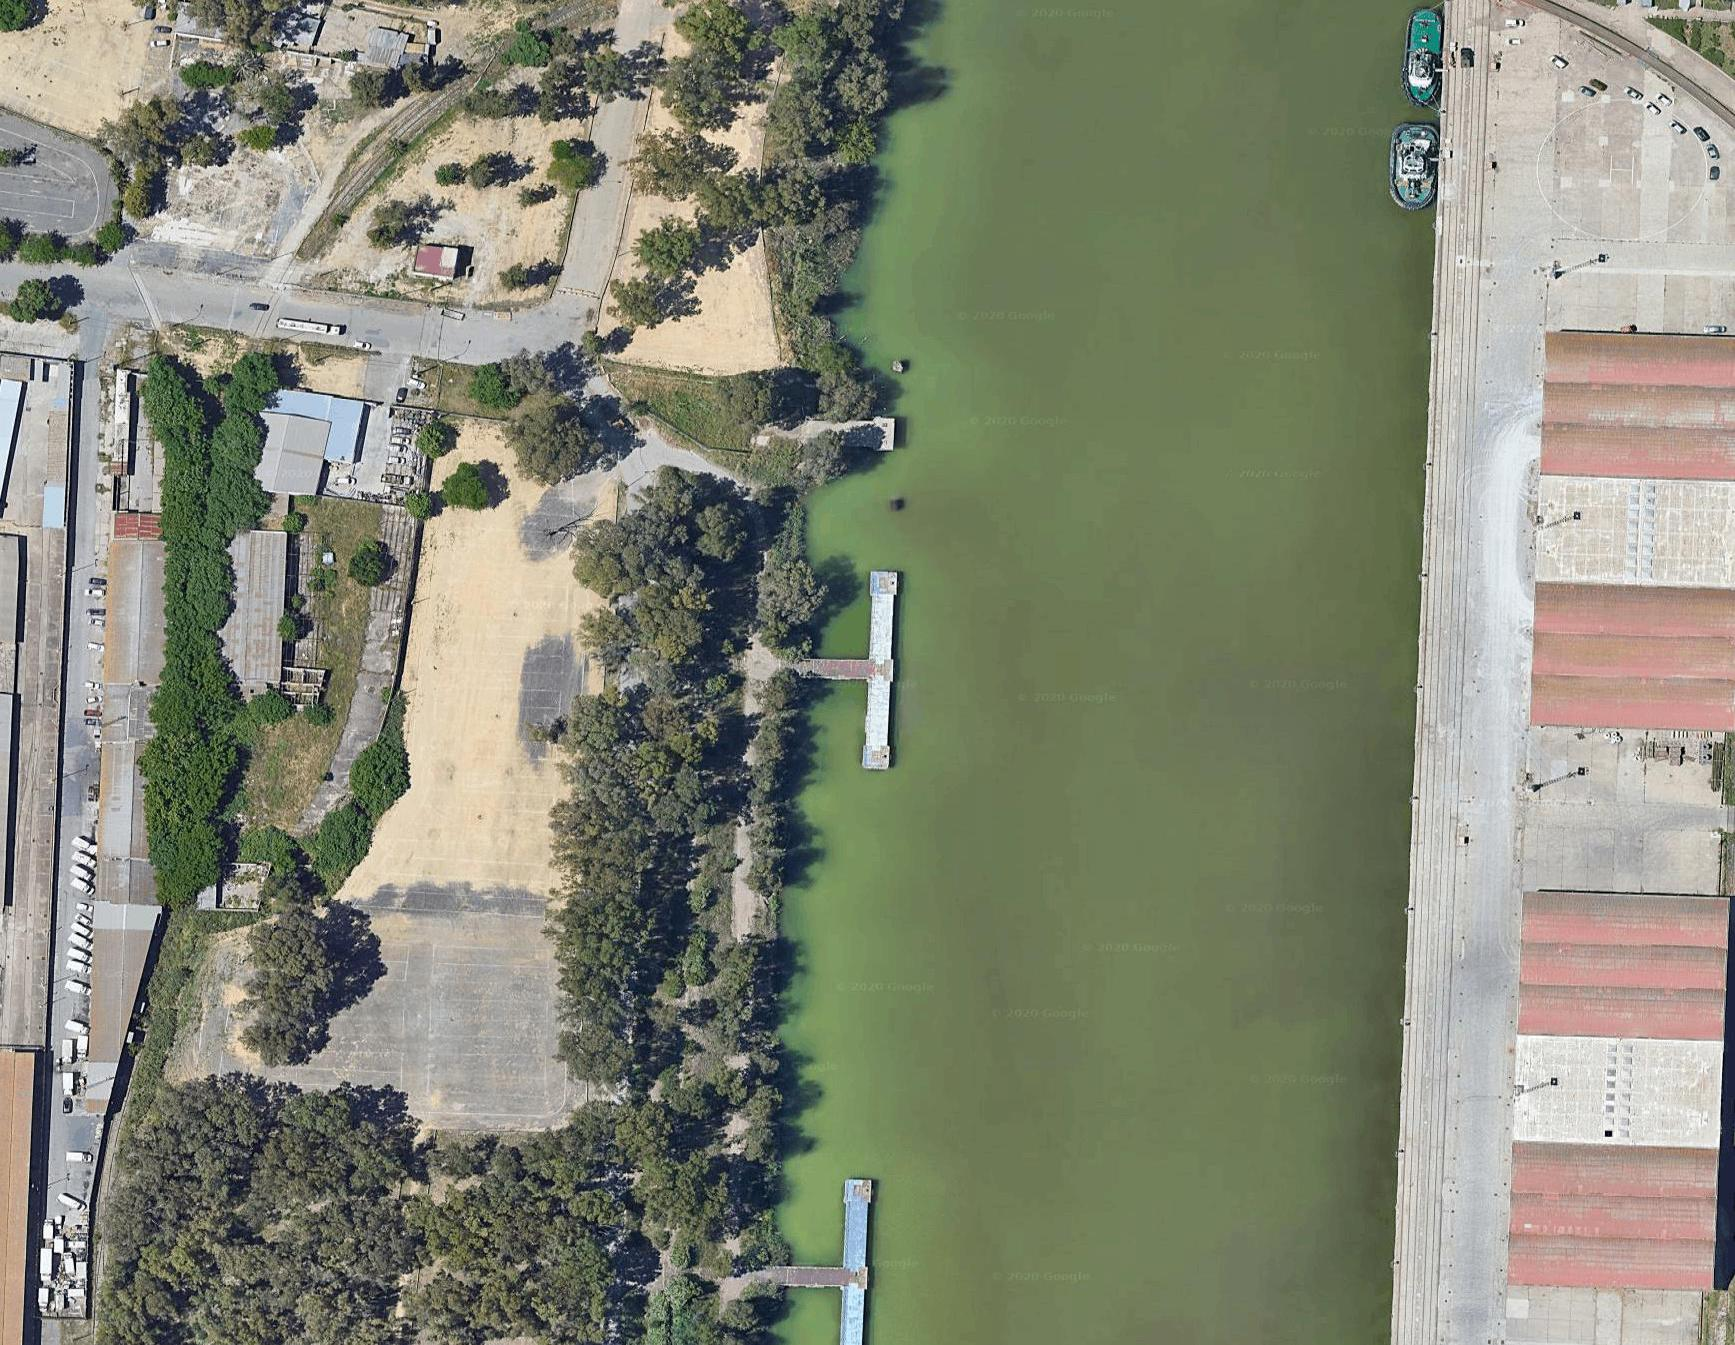harbor: (782, 568, 900, 768), (800, 1170, 908, 1344), (798, 399, 908, 465)
ship: (1396, 123, 1439, 215), (1407, 7, 1443, 103)
small-vehicle: (61, 975, 92, 997), (66, 877, 97, 900)
